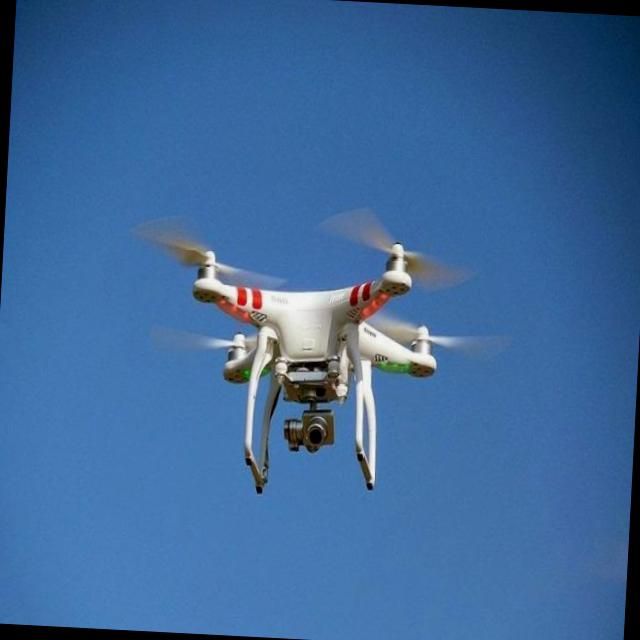drone: (173, 228, 448, 502)
